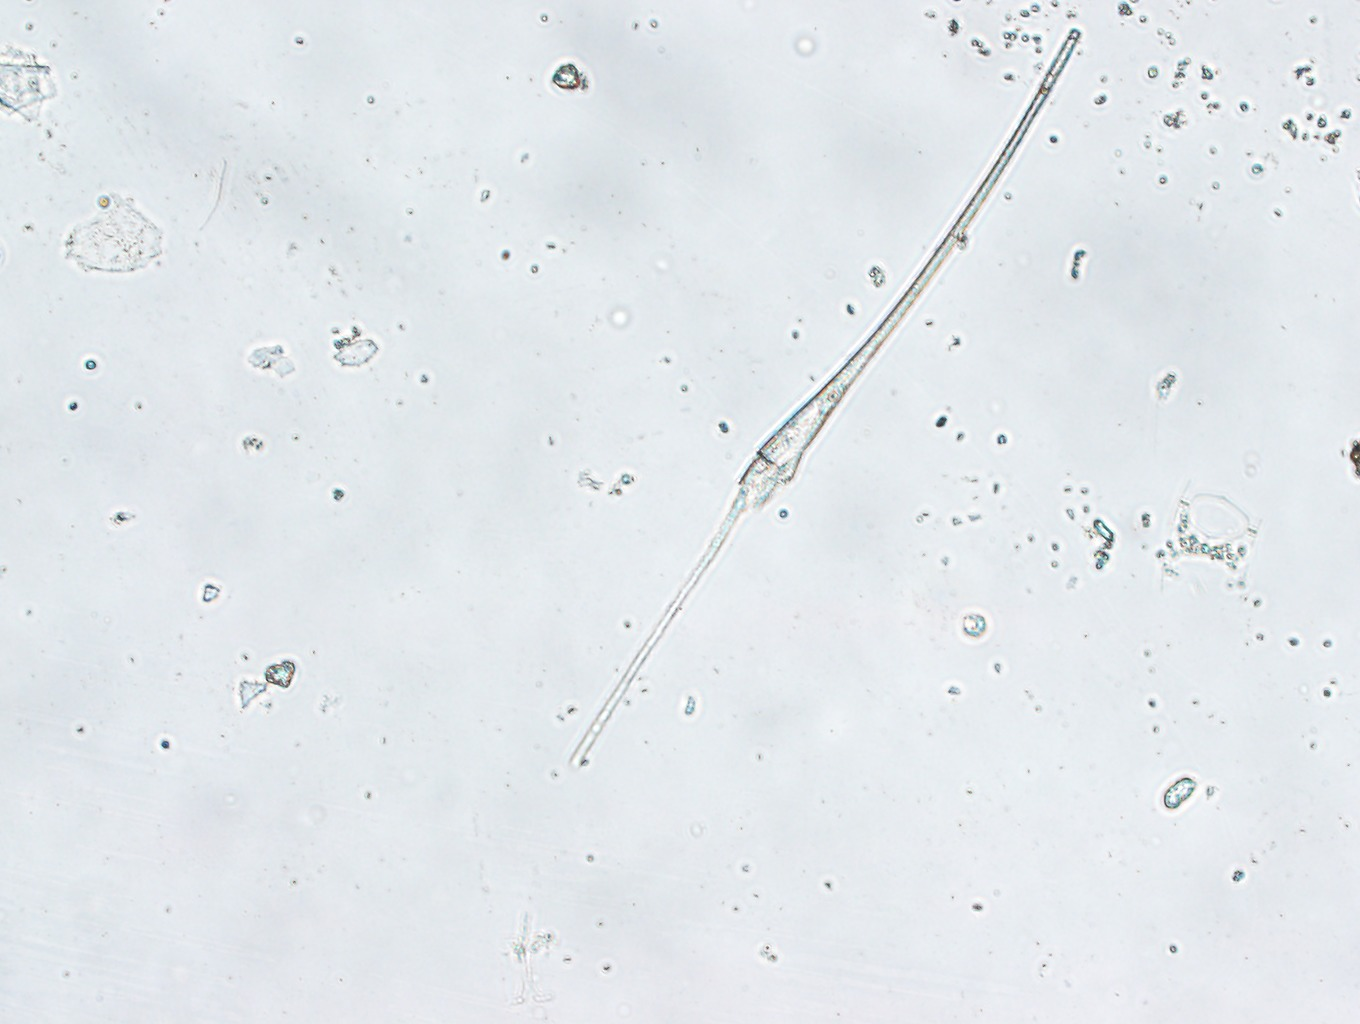ceratium fusus: (570, 22, 1087, 771)
eucampia: (1165, 478, 1263, 608)
